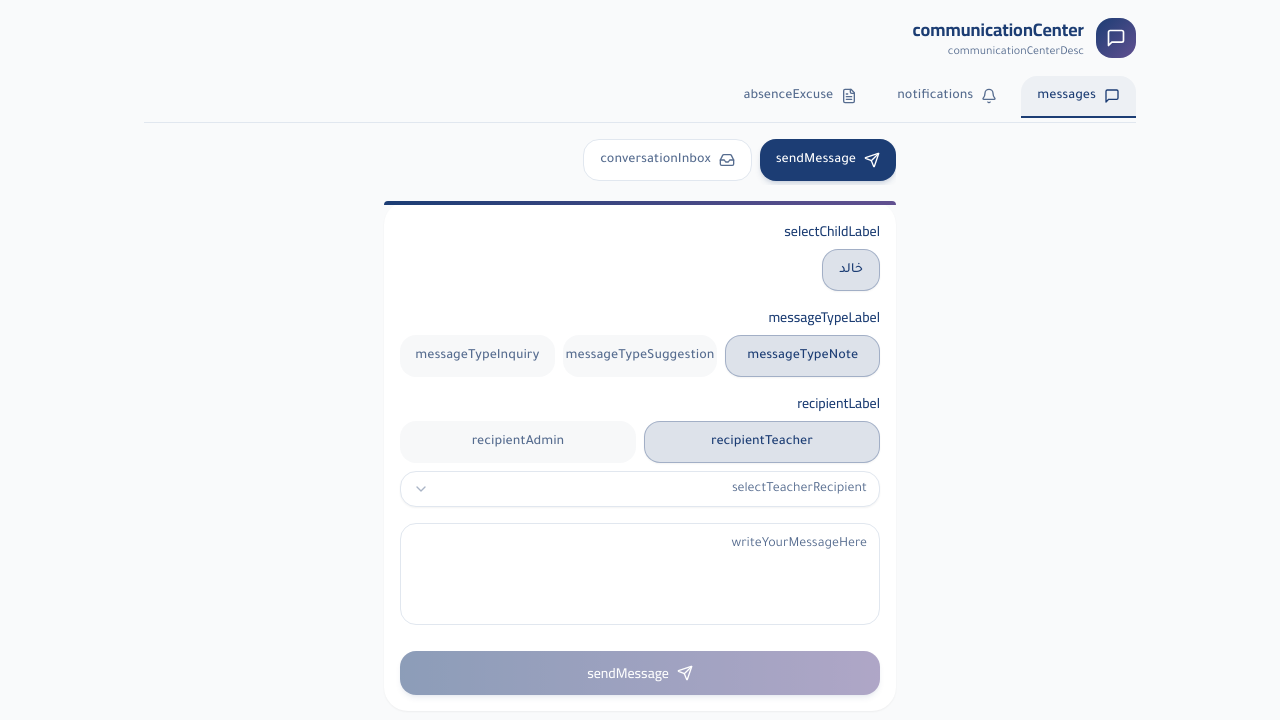
Scenario: ParentCommunicationCenter — required child context › auto-selects a single child and sends student_id with an admin message
Later steps or results of the test are not shown.
Click the button "recipientAdmin" at (518, 442), box 400,421 -> 636,463
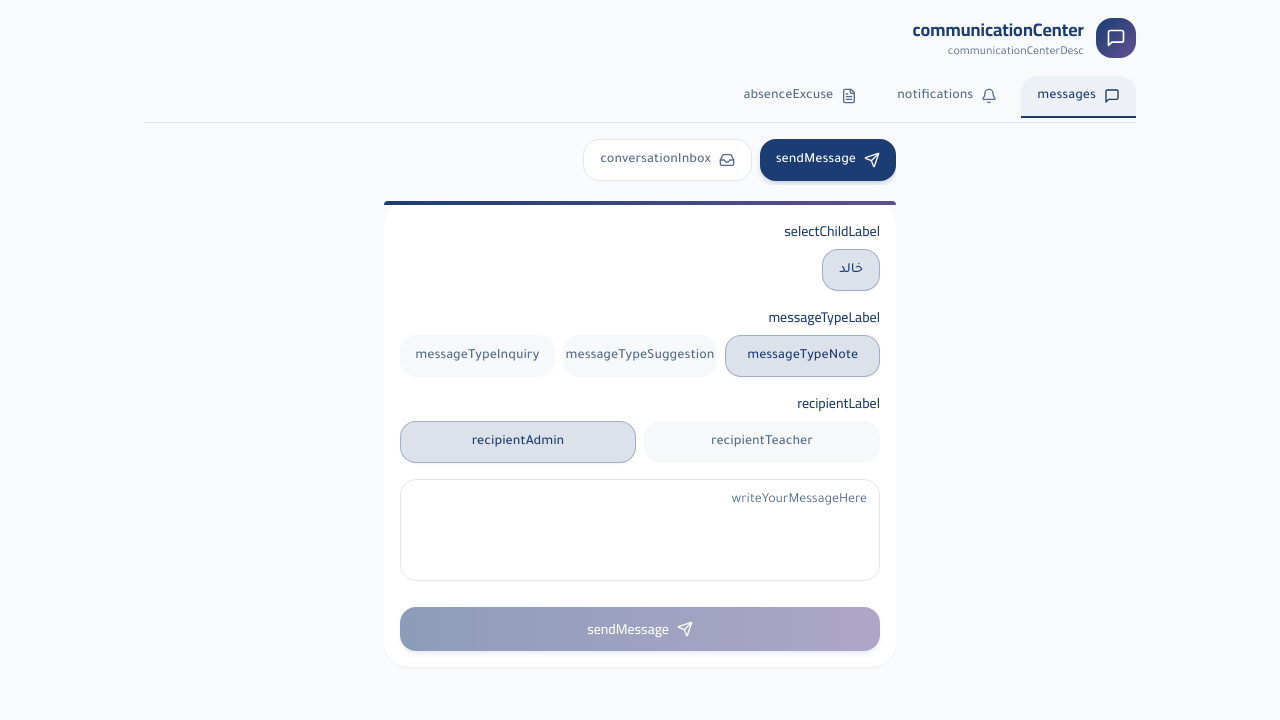
Type "ملاحظة للإدارة" into the text box with placeholder "writeYourMessageHere" at (640, 530), box 400,479 -> 880,581
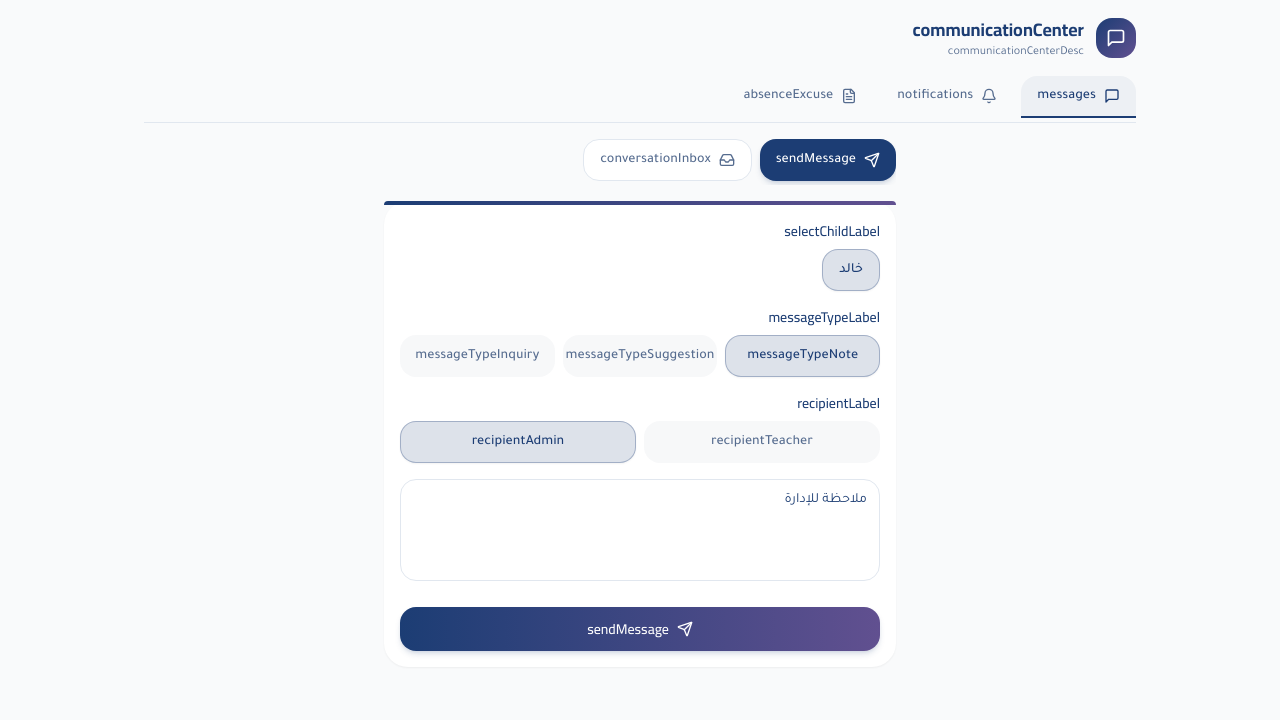
Check: the button "sendMessage" below "recipientLabel" is enabled, box 400,607 -> 880,651
